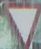Give way: (1, 0, 39, 48)
